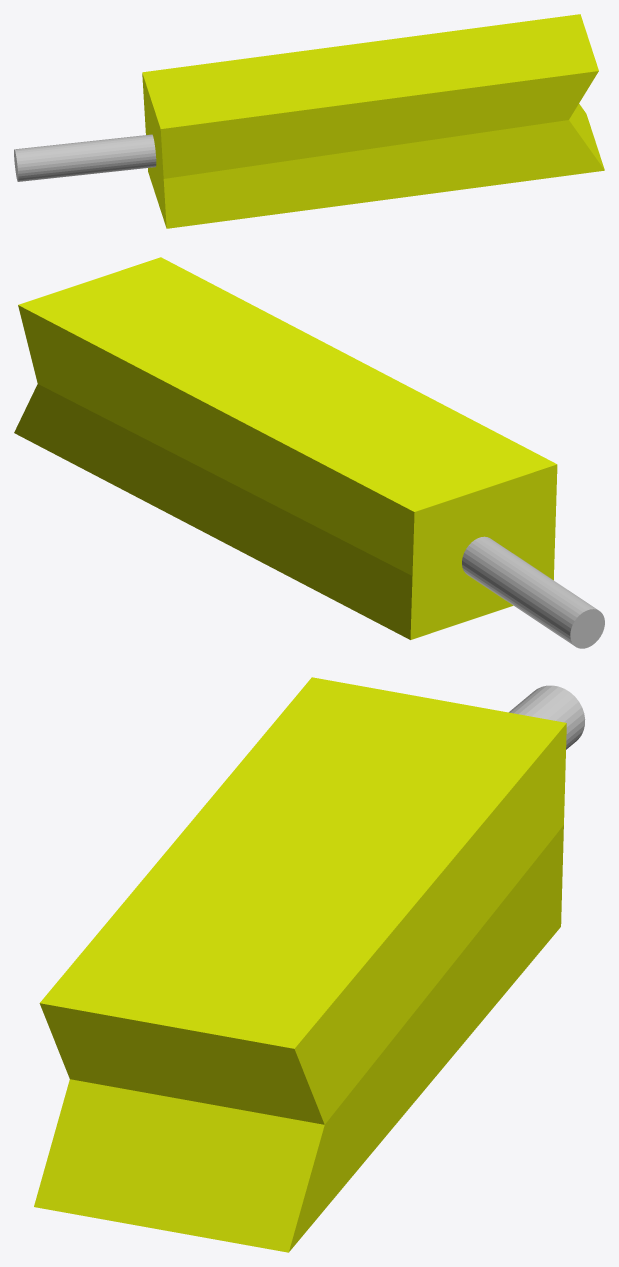
The model's file is adenine_base.glb.
3 views of the same model, one above another, from view 1: azimuth 30°, elevation 25°; view 2: azimuth 150°, elevation 25°; view 3: azimuth 270°, elevation 25° (orthographic). The views are drawn at different scales.
Parts seen in each view (by area): view 1: Connector_Ribose_Base.001; view 2: Connector_Ribose_Base.001; view 3: Connector_Ribose_Base.001.
Part boxes in pixels (left/top/right/bottom): Connector_Ribose_Base.001: left=14, top=14, right=604, bottom=228; Connector_Ribose_Base.001: left=14, top=257, right=604, bottom=648; Connector_Ribose_Base.001: left=34, top=677, right=585, bottom=1252.
Bounding box in the file's own units: 1.45 × 0.3216 × 0.6798.
